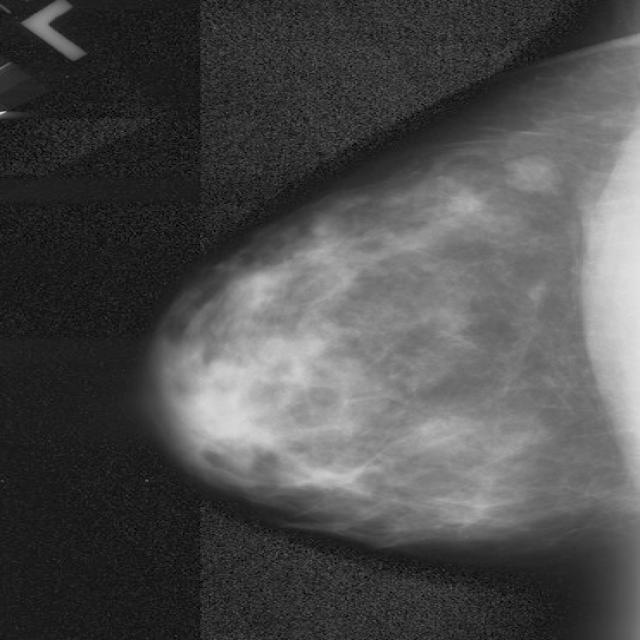tumour: (509, 155, 557, 192)
